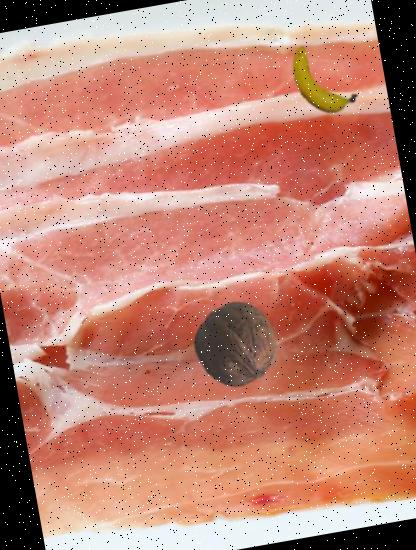Banana: (276, 34, 366, 124)
Walnut: (188, 296, 285, 392)
